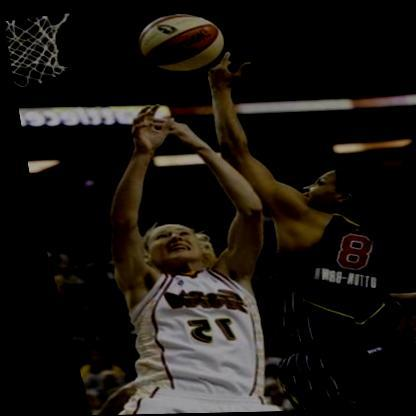basketball: (127, 10, 232, 79)
